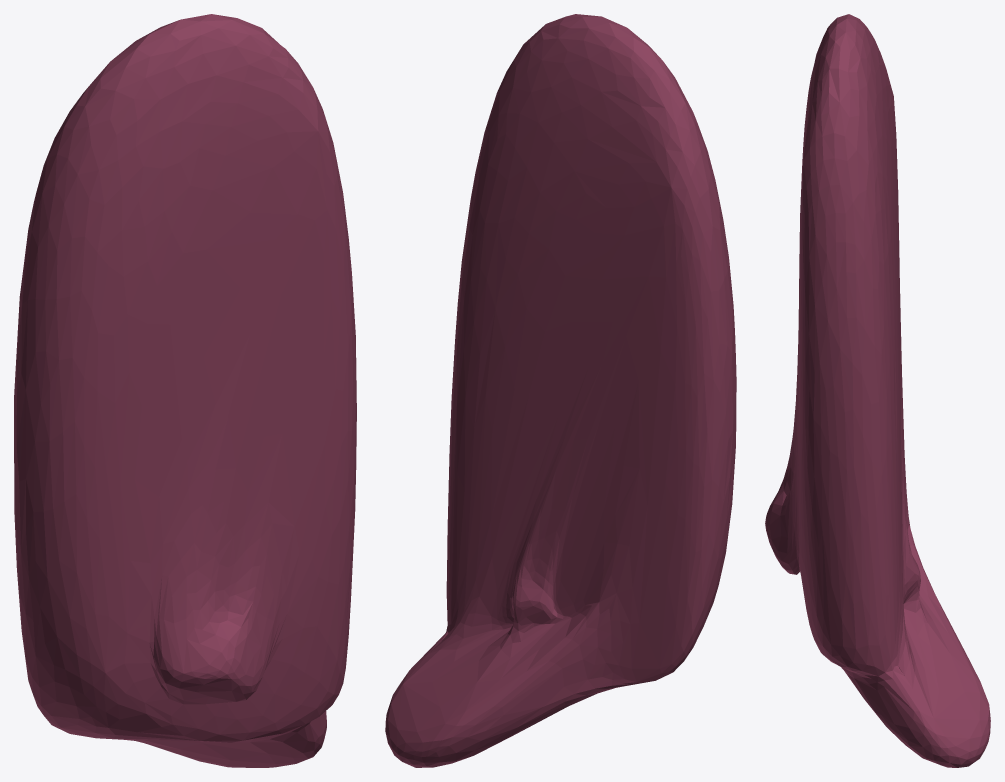
3 renders of one model, left to right at view 1: azimuth 30°, elevation 25°; view 2: azimuth 150°, elevation 25°; view 3: azimuth 270°, elevation 25°, orthographic. The views are drawn at different scales.
Visible parts, largest first — view 1: 222_Cube.913; view 2: 222_Cube.913; view 3: 222_Cube.913.
Part boxes in pixels (<box>): 222_Cube.913: <box>14,14,356,767</box>; 222_Cube.913: <box>385,14,736,767</box>; 222_Cube.913: <box>765,14,990,767</box>.
Bounding box in the file's own units: 5.4 × 12.46 × 3.73.
